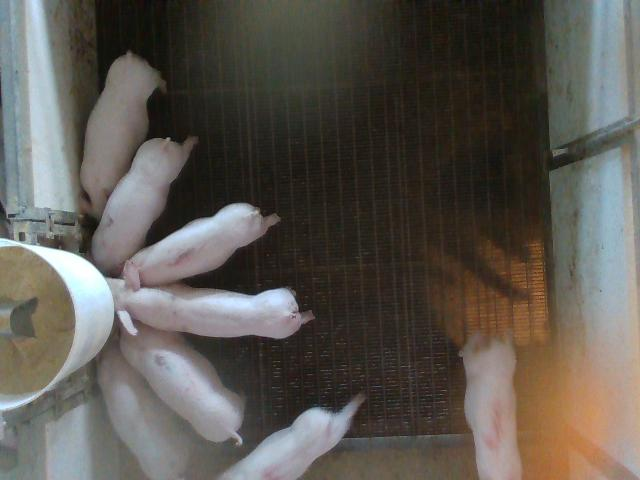pig-1: (130, 202, 280, 286)
pig-3: (459, 332, 521, 479)
pig-4: (219, 394, 365, 479)
